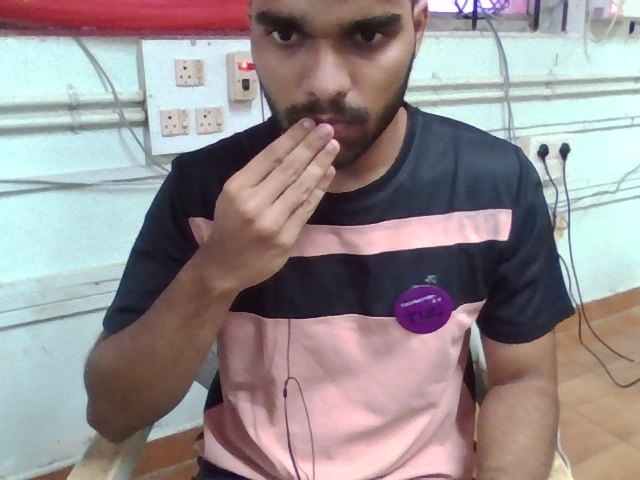eat: (189, 85, 394, 320)
